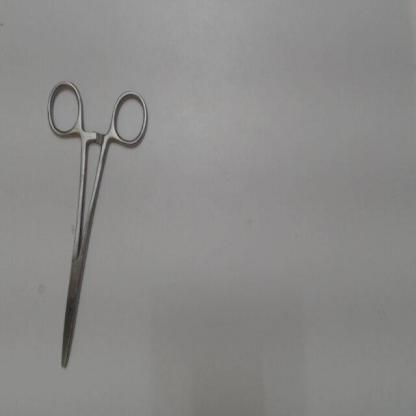Mayo Needle Holder: (38, 75, 158, 379)
